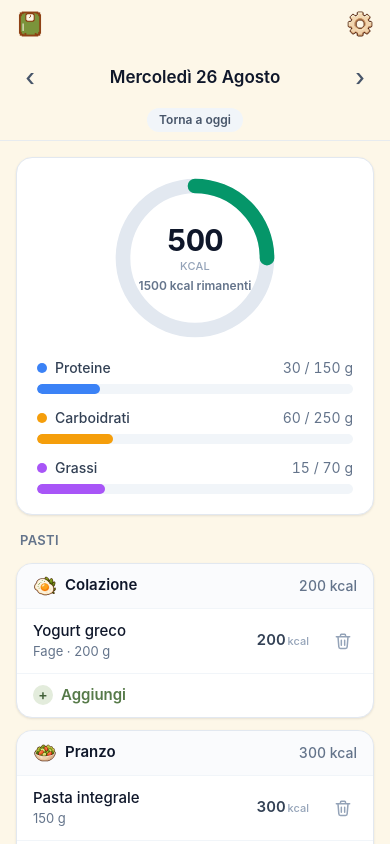
DayPage › closes the edit sheet when Annulla is clicked
This screenshot has width=390, height=844.
What coordinates should you click on to do the following:
click the button with aria-label "modifica yogurt greco"
I would click on:
 (139, 640)
Its box is [33,620,244,662].
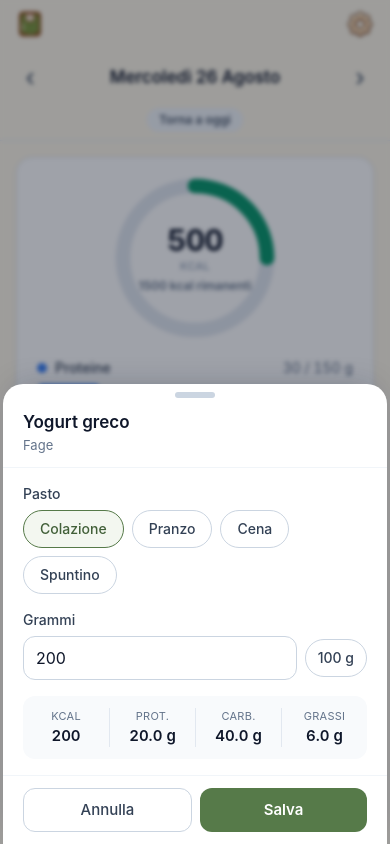
What coordinates should you click on to do the following:
click the button "Annulla"
I would click on:
 (108, 810)
Its box is [23,788,192,832].
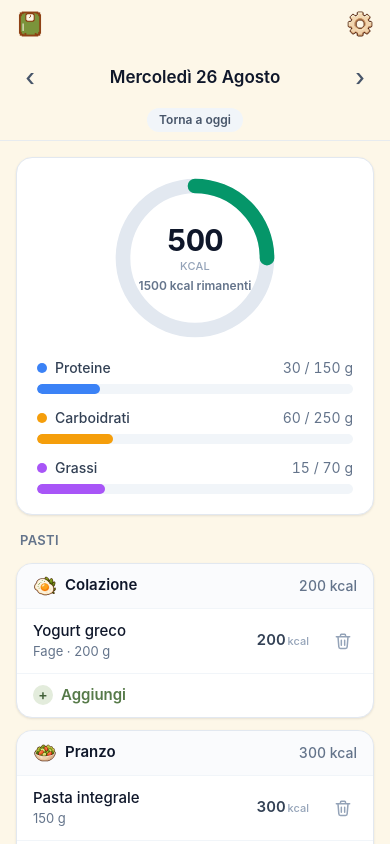
Check: the dialog is gone
